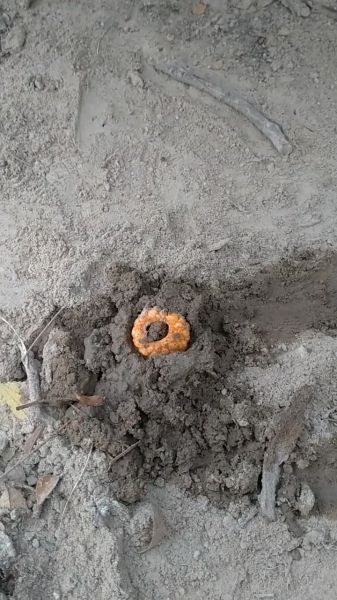eggs: (131, 304, 196, 364)
